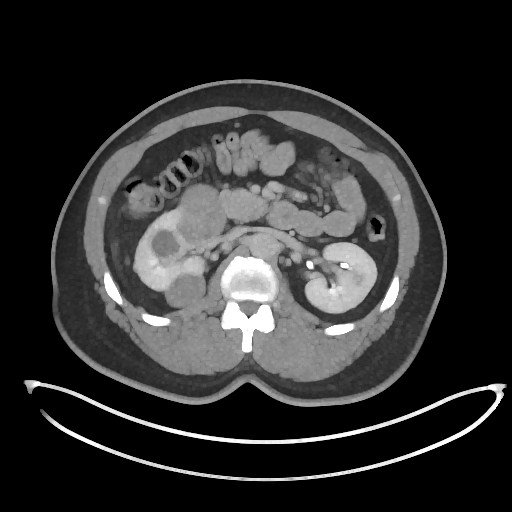Lesion: (171, 184, 227, 247)
